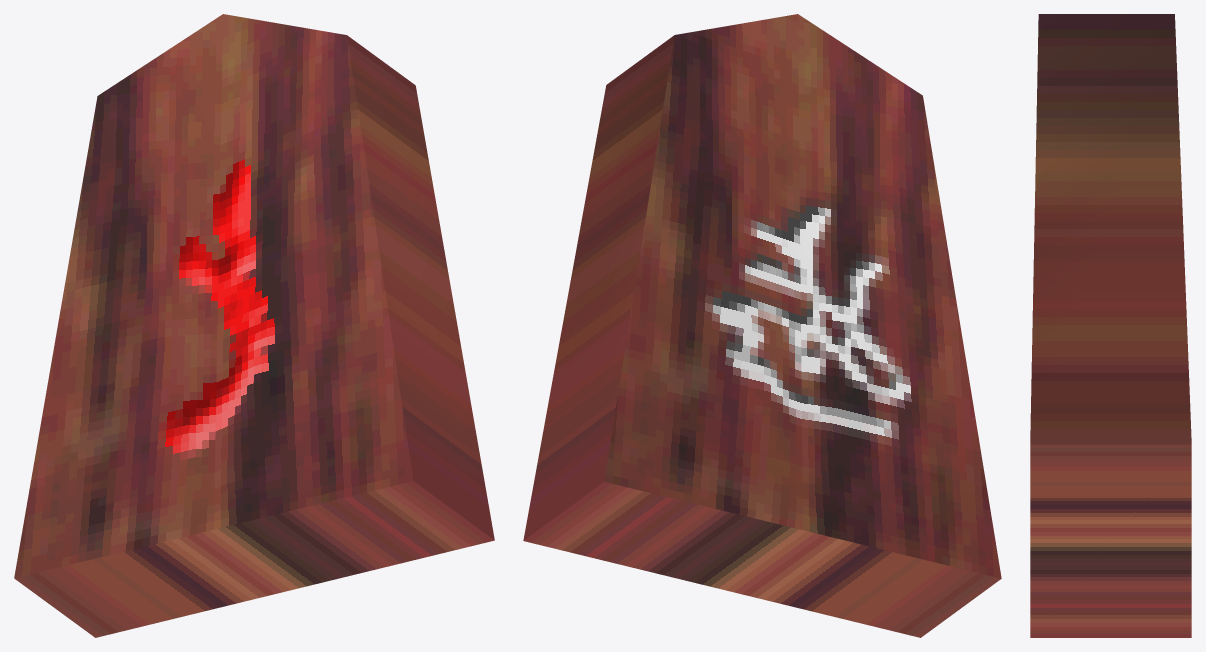
File: ps2_save-icons_simple2000honkakushikouseriesvol1theshougimoritakazurounoshougishinan.glb
3 views of the same model, side by side, from view 1: azimuth 30°, elevation 25°; view 2: azimuth 150°, elevation 25°; view 3: azimuth 270°, elevation 25° (orthographic).
Parts seen in each view (by area): view 1: icon1.ico; view 2: icon1.ico; view 3: icon1.ico.
Boxes of the visible parts, left/top/right/bottom form: icon1.ico: left=14, top=14, right=494, bottom=637; icon1.ico: left=523, top=14, right=1001, bottom=637; icon1.ico: left=1030, top=14, right=1191, bottom=637.
Bounding box in the file's own units: 1.94 × 2.43 × 0.6855.
1 material, 1 textured.
